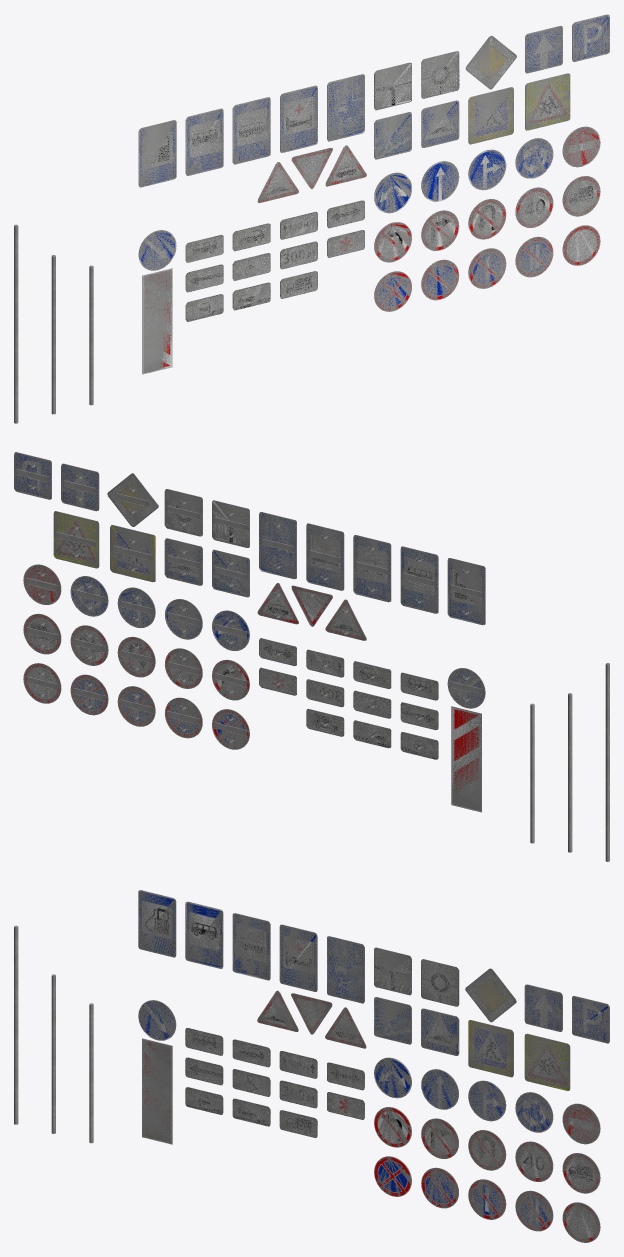
The model's file is RRSP.fbx.
The picture shows the model from 3 angles, top to bottom: view 1: azimuth 30°, elevation 25°; view 2: azimuth 150°, elevation 25°; view 3: azimuth 330°, elevation 25°; orthographic projection.
Visible parts, largest first — view 1: Obstacle, GAS, BusStop, TramStop, Hospital, Yard, Children, RoadCrossing, RoundDirect, SpeedBump, MainRoad, MainDirect (+36 smaller); view 2: Obstacle, BusStop, Hospital, GAS, TramStop, Yard, Children, RoadCrossing, oneWay, RoundDirect, SpeedBump, MainRoad (+36 smaller); view 3: Obstacle, TramStop, BusStop, GAS, Hospital, Yard, Children, RoadCrossing, oneWay, SpeedBump, RoundDirect, MainRoad (+36 smaller).
Boxes of the visible parts, <box> form: Obstacle: <box>142,268,172,374</box>; GAS: <box>138,120,176,187</box>; BusStop: <box>185,108,223,175</box>; TramStop: <box>232,97,270,164</box>; Hospital: <box>280,85,317,152</box>; Yard: <box>327,74,364,141</box>; Children: <box>525,73,570,130</box>; RoadCrossing: <box>468,87,513,144</box>; RoundDirect: <box>421,51,459,98</box>; SpeedBump: <box>421,100,459,147</box>; MainRoad: <box>465,35,516,89</box>; MainDirect: <box>374,62,411,110</box>; Obstacle: <box>451,706,481,812</box>; BusStop: <box>400,546,438,613</box>; Hospital: <box>306,523,344,590</box>; GAS: <box>447,558,485,625</box>; TramStop: <box>353,535,391,602</box>; Yard: <box>259,512,296,579</box>; Children: <box>53,511,99,568</box>; RoadCrossing: <box>110,525,155,582</box>; oneWay: <box>61,463,99,511</box>; RoundDirect: <box>164,489,202,536</box>; SpeedBump: <box>164,538,202,585</box>; MainRoad: <box>107,473,158,526</box>; Obstacle: <box>142,1038,172,1144</box>; TramStop: <box>232,913,270,980</box>; BusStop: <box>185,901,223,968</box>; GAS: <box>138,890,176,957</box>; Hospital: <box>279,924,317,991</box>; Yard: <box>327,936,364,1003</box>; Children: <box>524,1033,570,1090</box>; RoadCrossing: <box>468,1020,513,1077</box>; oneWay: <box>524,984,562,1031</box>; SpeedBump: <box>421,1008,459,1055</box>; RoundDirect: <box>421,959,459,1006</box>; MainRoad: <box>465,968,516,1022</box>.
Bounding box in the file's own units: 3160 × 1376 × 29.05.
